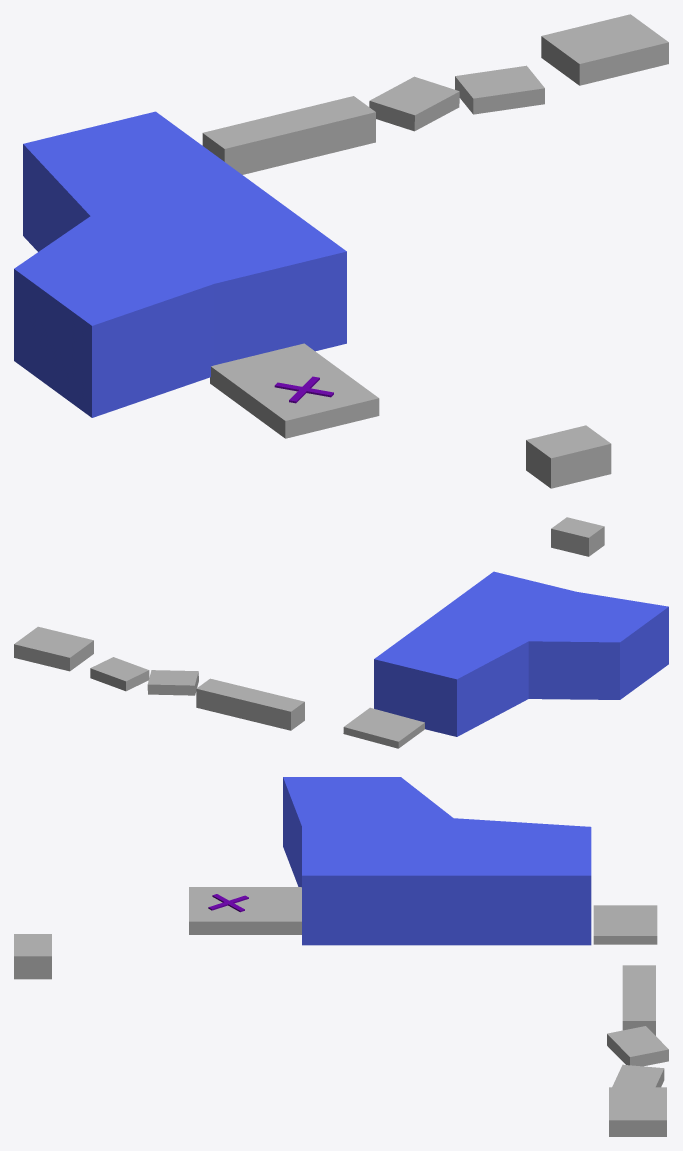
Rendered from LevelStructure4.fbx.
3 views of the same model, one above another, from view 1: azimuth 30°, elevation 25°; view 2: azimuth 150°, elevation 25°; view 3: azimuth 270°, elevation 25° (orthographic). The views are drawn at different scales.
Visible parts, largest first — view 1: Cube, Cube__7_, Cube__5_, Cube__2_, Cube__10_, Cube__3_, Cube__4_; view 2: Cube, Cube__5_, Cube__2_, Cube__6_, Cube__10_, Cube__3_, Cube__4_; view 3: Cube, Cube__7_, Cube__2_, Cube__6_, Cube__5_, Cube__4_, Cube__10_, Cube__3_.
Part boxes in pixels (left/top/right/bottom): Cube: left=14, top=111, right=346, bottom=417; Cube__7_: left=210, top=343, right=379, bottom=438; Cube__5_: left=202, top=96, right=375, bottom=174; Cube__2_: left=541, top=14, right=668, bottom=85; Cube__10_: left=526, top=425, right=611, bottom=488; Cube__3_: left=455, top=65, right=544, bottom=114; Cube__4_: left=369, top=76, right=459, bottom=131; Cube: left=374, top=571, right=668, bottom=736; Cube__5_: left=196, top=678, right=304, bottom=730; Cube__2_: left=14, top=626, right=93, bottom=671; Cube__6_: left=343, top=707, right=424, bottom=748; Cube__10_: left=551, top=517, right=604, bottom=556; Cube__3_: left=90, top=657, right=149, bottom=691; Cube__4_: left=147, top=670, right=198, bottom=695; Cube: left=283, top=777, right=591, bottom=945; Cube__7_: left=189, top=887, right=301, bottom=934; Cube__2_: left=609, top=1087, right=666, bottom=1136; Cube__6_: left=593, top=905, right=657, bottom=944; Cube__5_: left=622, top=965, right=655, bottom=1035; Cube__4_: left=607, top=1026, right=668, bottom=1066; Cube__10_: left=14, top=934, right=51, bottom=979; Cube__3_: left=612, top=1064, right=664, bottom=1087.
Size of the model in its own units: 17959 by 2273 by 17011.
